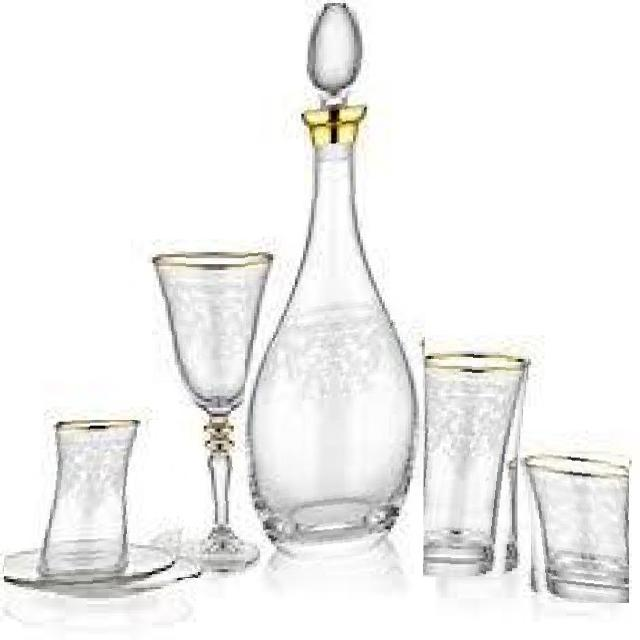Glass: (245, 3, 428, 583), (151, 246, 279, 578), (4, 420, 195, 596), (424, 347, 530, 577), (520, 441, 629, 603)
